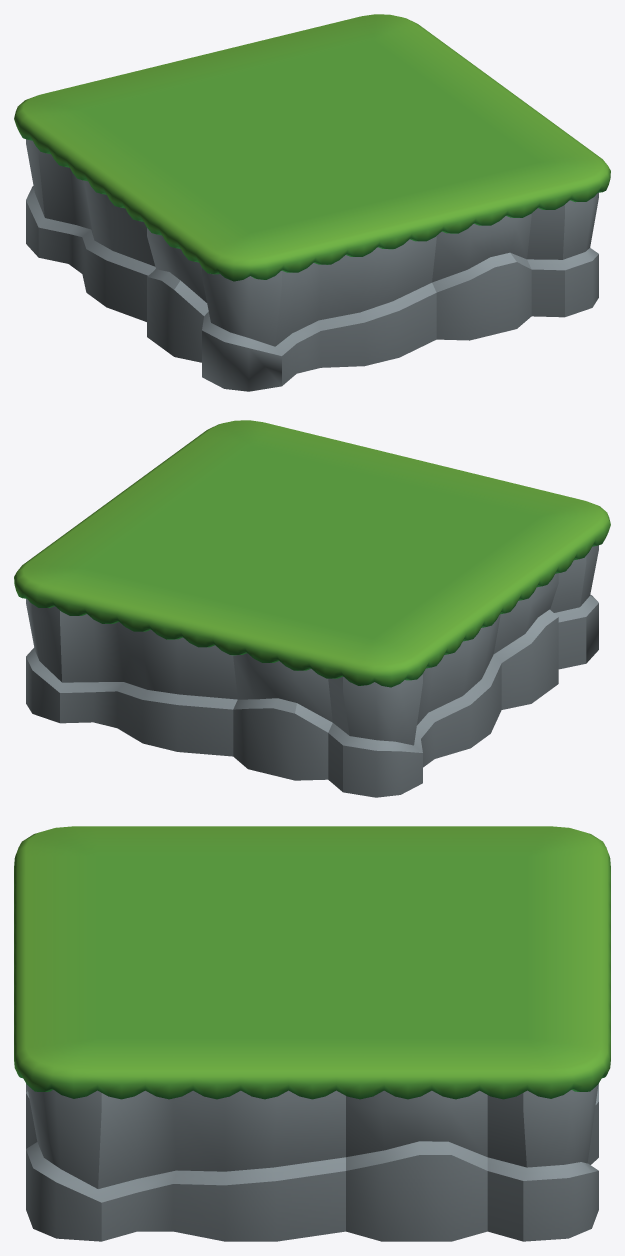
The model's file is Hill_12x12x4_Color1.gltf.
3 views of the same model, one above another, from view 1: azimuth 30°, elevation 25°; view 2: azimuth 150°, elevation 25°; view 3: azimuth 270°, elevation 25° (orthographic). The views are drawn at different scales.
Parts seen in each view (by area): view 1: Hill_12x12x4_Color1; view 2: Hill_12x12x4_Color1; view 3: Hill_12x12x4_Color1.
Part boxes in pixels (x1,y1,x2,y2): Hill_12x12x4_Color1: (14,14,610,391); Hill_12x12x4_Color1: (14,420,610,797); Hill_12x12x4_Color1: (14,826,610,1241).
Size of the model in its own units: 12.5 by 4 by 12.5.
Materials: 1 (1 with a texture image).
